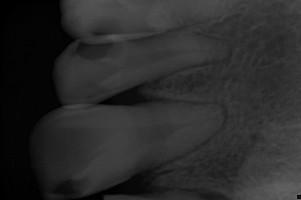Furcation Involvement: (182, 187, 233, 200)
